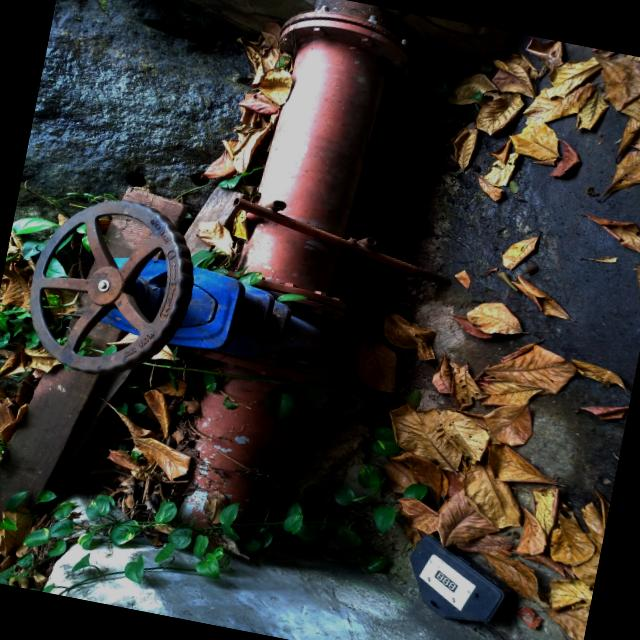gas: (165, 3, 402, 545)
